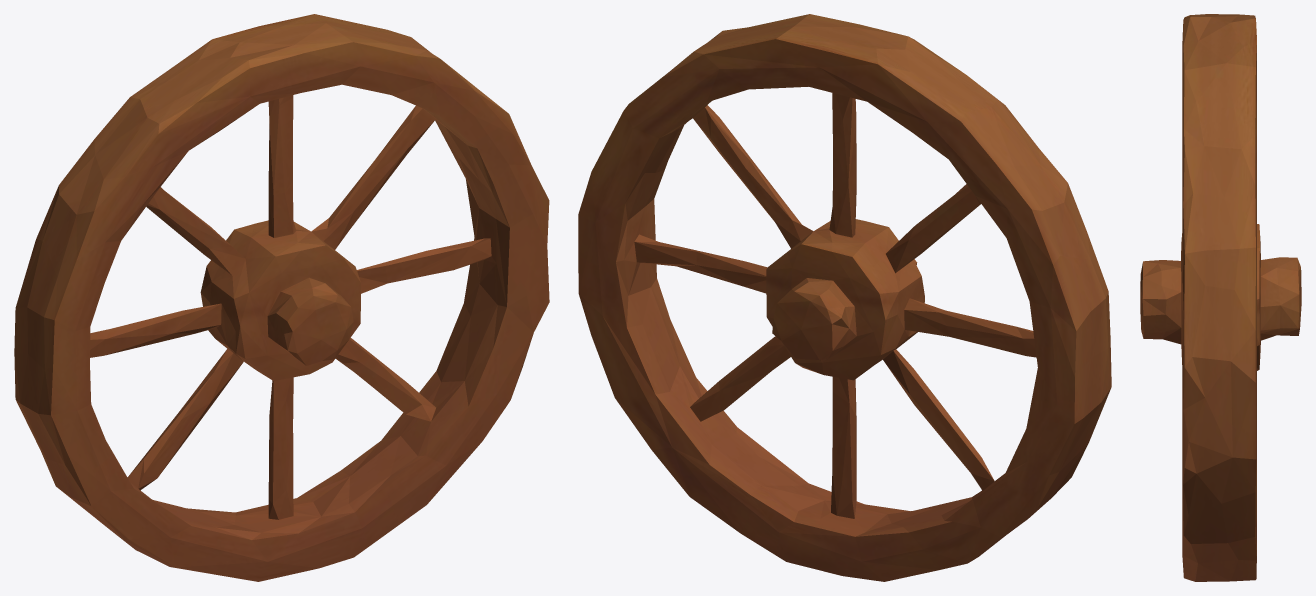
File: wheel.glb
3 renders of one model, left to right at view 1: azimuth 30°, elevation 25°; view 2: azimuth 150°, elevation 25°; view 3: azimuth 270°, elevation 25°, orthographic.
Parts seen in each view (by area): view 1: tripo_node_e5b9e1be-b2ad-47c1-8734-da18eb68c7d3; view 2: tripo_node_e5b9e1be-b2ad-47c1-8734-da18eb68c7d3; view 3: tripo_node_e5b9e1be-b2ad-47c1-8734-da18eb68c7d3.
Boxes of the visible parts, <box> form: tripo_node_e5b9e1be-b2ad-47c1-8734-da18eb68c7d3: <box>14,14,549,581</box>; tripo_node_e5b9e1be-b2ad-47c1-8734-da18eb68c7d3: <box>578,14,1111,581</box>; tripo_node_e5b9e1be-b2ad-47c1-8734-da18eb68c7d3: <box>1140,14,1301,581</box>.
Size of the model in its own units: 2.98 by 2.99 by 0.8486.
1 material, 1 textured.
